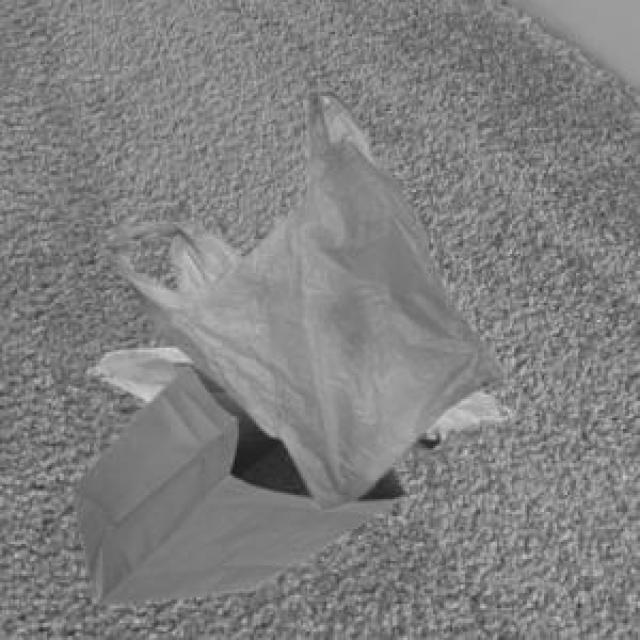paper: (68, 361, 401, 600)
